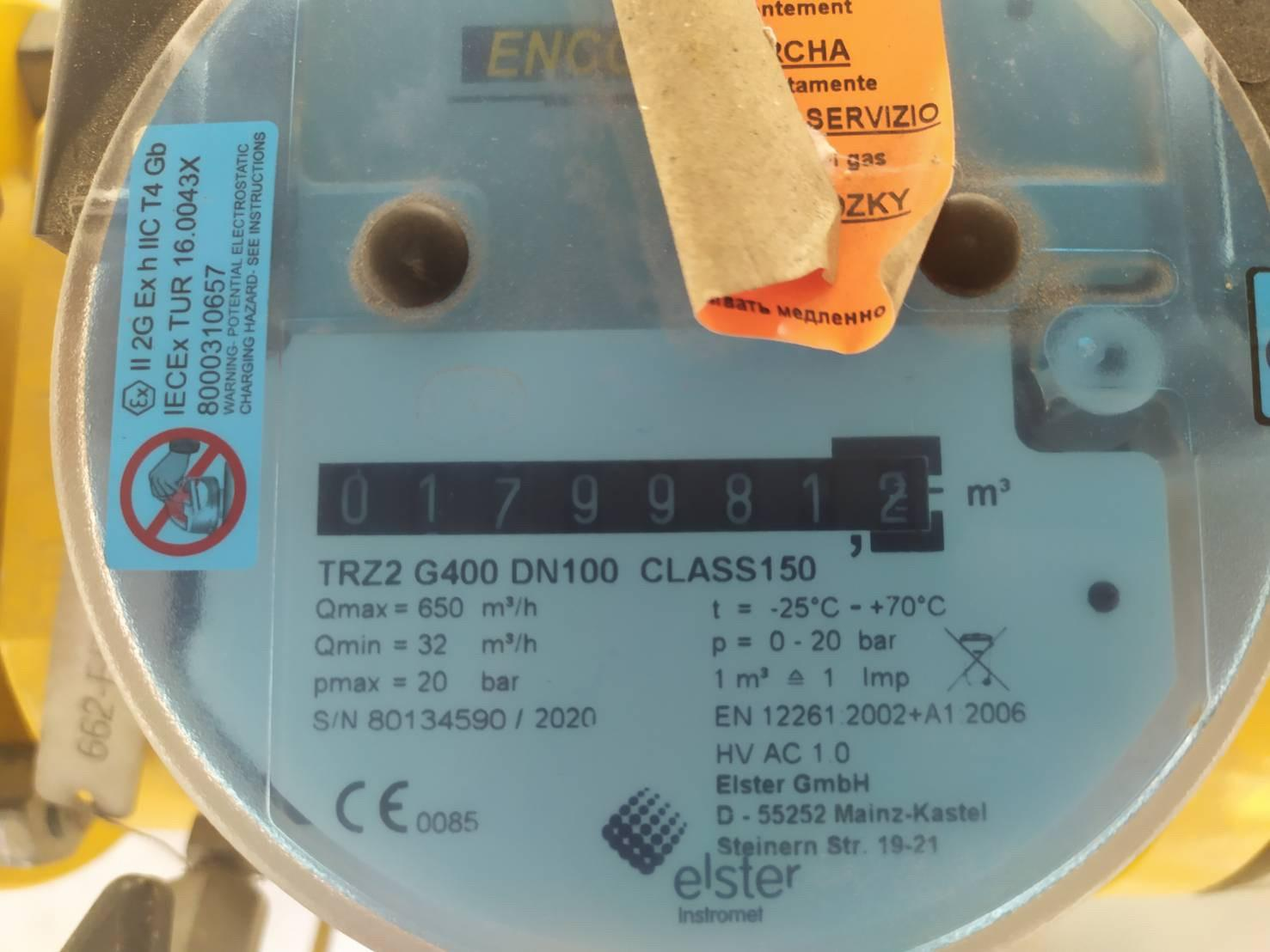analog_dial: (307, 428, 950, 588)
